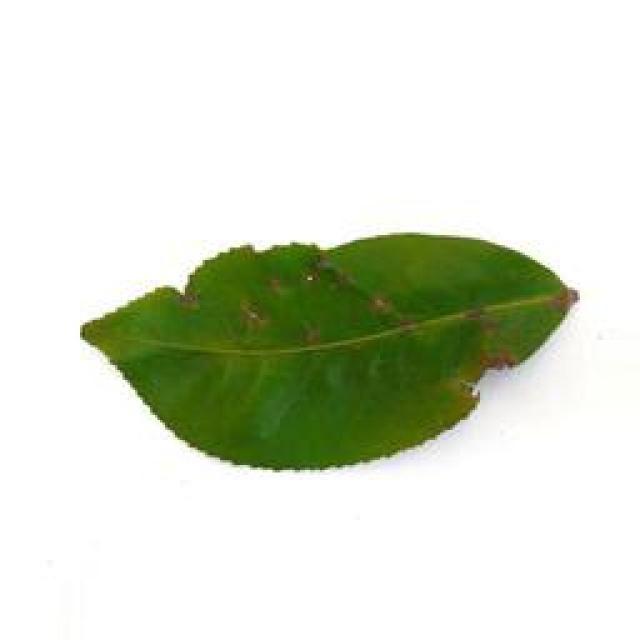Helopeltis: (69, 218, 584, 478)
